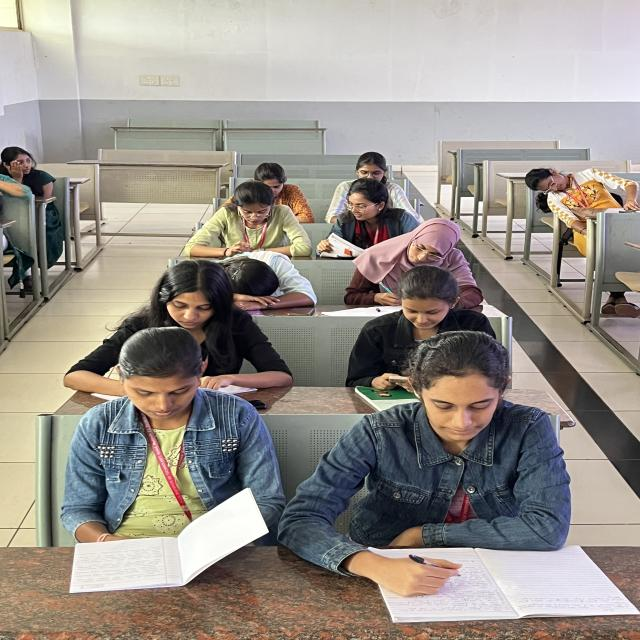Reading: (291, 342, 550, 592), (56, 342, 312, 582), (63, 281, 297, 398), (184, 178, 315, 264)
Writing: (347, 275, 485, 374), (349, 216, 469, 307)
